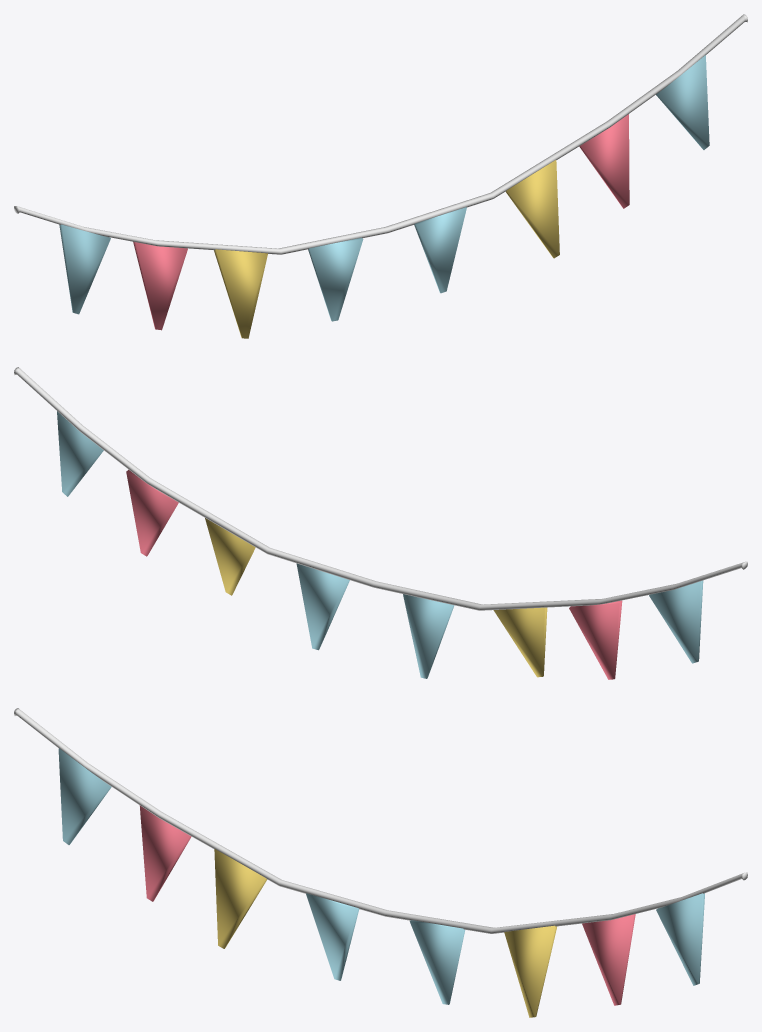
Rendered from partydeko.fbx.
The picture shows the model from 3 angles, top to bottom: view 1: azimuth 30°, elevation 25°; view 2: azimuth 150°, elevation 25°; view 3: azimuth 330°, elevation 25°; orthographic projection.
Visible parts, largest first — view 1: miniflaggRot.009, girlande seil.005, miniflaggRot.010, miniflagg.010, miniflagg.009; view 2: girlande seil.005, miniflagg.009, miniflaggRot.010, miniflagg.010, miniflaggRot.009; view 3: miniflaggRot.009, miniflaggRot.010, girlande seil.005, miniflagg.010, miniflagg.009.
Boxes of the visible parts, x1,y1,x2,y2 form: miniflaggRot.009: (214,160,559,338); girlande seil.005: (14,14,747,254); miniflaggRot.010: (133,114,629,330); miniflagg.010: (59,55,709,314); miniflagg.009: (308,207,466,321); girlande seil.005: (14,367,747,610); miniflagg.009: (296,563,454,678); miniflaggRot.010: (126,469,622,679); miniflagg.010: (57,411,703,663); miniflaggRot.009: (205,518,547,677); miniflaggRot.009: (214,849,557,1017); miniflaggRot.010: (139,805,635,1005); girlande seil.005: (14,708,747,933); miniflagg.010: (58,748,704,985); miniflagg.009: (306,893,465,1004).
Bounding box in the file's own units: 429 × 18.2 × 117.
